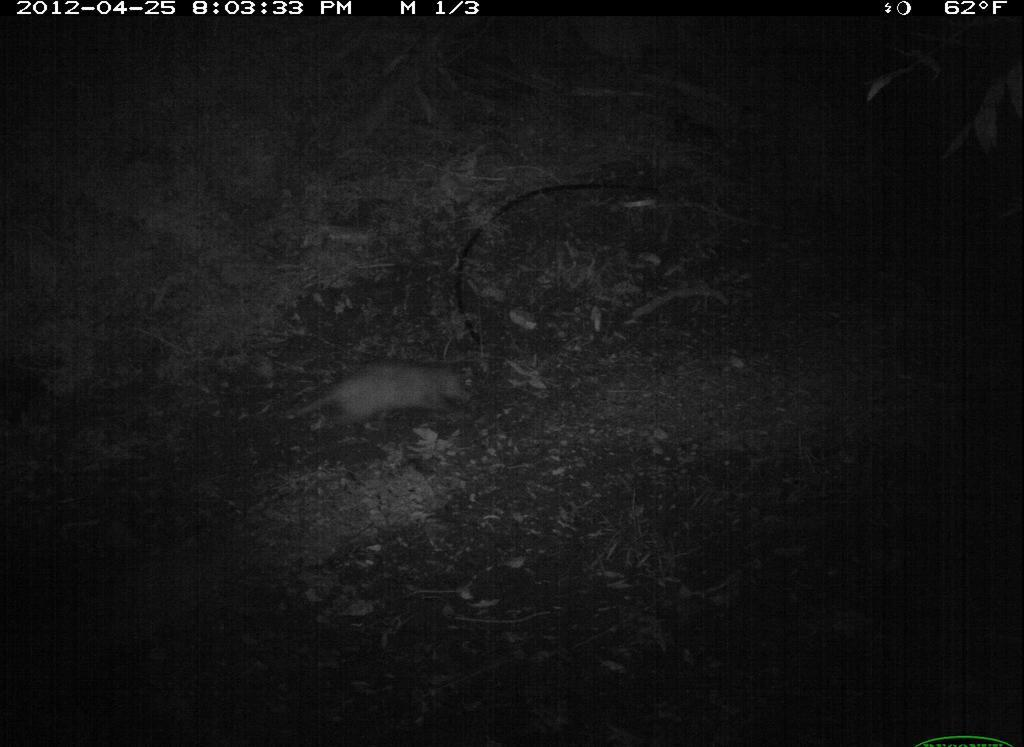opossum: (280, 354, 493, 441)
